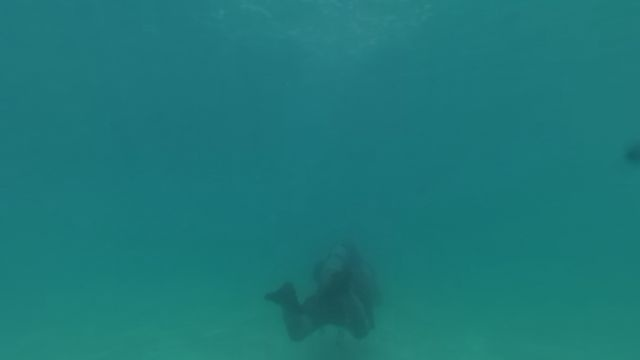Diver: (259, 244, 392, 348)
